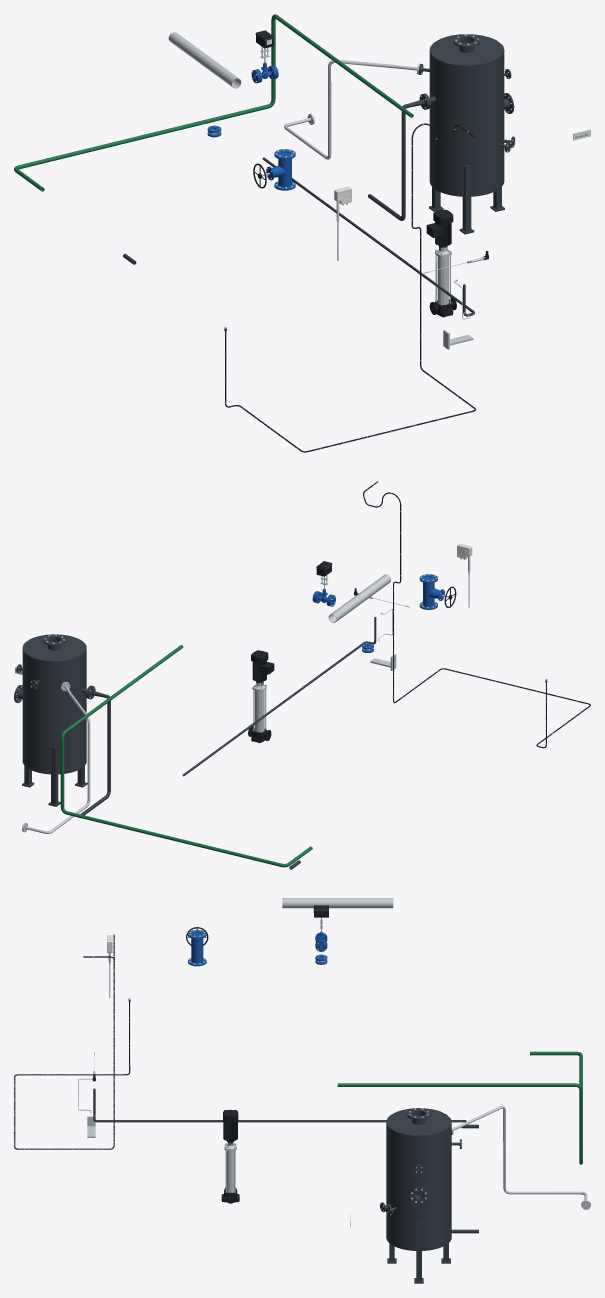
3 views of the same model, one above another, from view 1: azimuth 30°, elevation 25°; view 2: azimuth 150°, elevation 25°; view 3: azimuth 270°, elevation 25° (orthographic). The views are drawn at different scales.
Parts seen in each view (by area): view 1: separator_bdv60_5 / dark, to_economizer / green, wiring_pressure_switch_1 / black, trap_gap_to_bdv / steel, steam_delivery / steel, bottom_to_bdv / dark, tds_common / dark, steam_manual / blue, pump_1 CAD solid 15; view 2: separator_bdv60_5 / dark, to_economizer / green, wiring_pressure_switch_1 / black, trap_gap_to_bdv / steel, steam_delivery / steel, tds_common / dark, bottom_to_bdv / dark, steam_manual / blue, pump_1 CAD solid 15; view 3: separator_bdv60_5 / dark, to_economizer / green, steam_delivery / steel, wiring_pressure_switch_1 / black, tds_common / dark, trap_gap_to_bdv / steel, steam_manual / blue.
Boxes of the visible parts, x1,y1,x2,y2 form: separator_bdv60_5 / dark: (418,34,515,234); to_economizer / green: (14,14,413,191); wiring_pressure_switch_1 / black: (225,123,476,452); trap_gap_to_bdv / steel: (284,60,420,159); steam_delivery / steel: (168,32,241,88); bottom_to_bdv / dark: (368,94,428,220); tds_common / dark: (262,157,474,316); steam_manual / blue: (266,149,295,190); pump_1 CAD solid 15: (426,209,453,246); separator_bdv60_5 / dark: (14,634,91,806); to_economizer / green: (60,645,312,867); wiring_pressure_switch_1 / black: (363,481,590,748); trap_gap_to_bdv / steel: (22,682,90,833); steam_delivery / steel: (328,574,391,622); tds_common / dark: (182,617,376,776); bottom_to_bdv / dark: (79,686,110,818); steam_manual / blue: (419,574,444,609); pump_1 CAD solid 15: (251,650,274,682); separator_bdv60_5 / dark: (380,1108,461,1283); to_economizer / green: (337,1051,582,1164); steam_delivery / steel: (282,898,393,908); wiring_pressure_switch_1 / black: (14,934,130,1149); tds_common / dark: (93,1088,466,1122); trap_gap_to_bdv / steel: (451,1106,590,1209); steam_manual / blue: (187,929,206,966).
Bounding box in the file's own units: 5.83 × 3.24 × 6.74.
